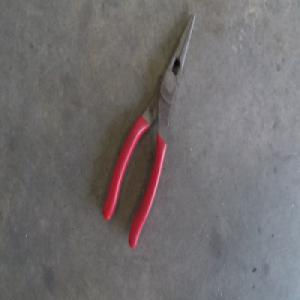Pliers: (105, 12, 195, 246)
